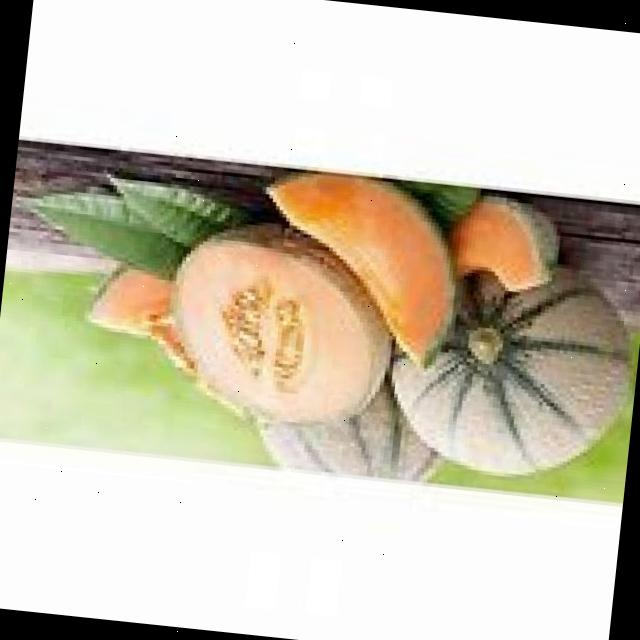Hami Melon: (377, 245, 638, 483), (158, 211, 396, 428)
